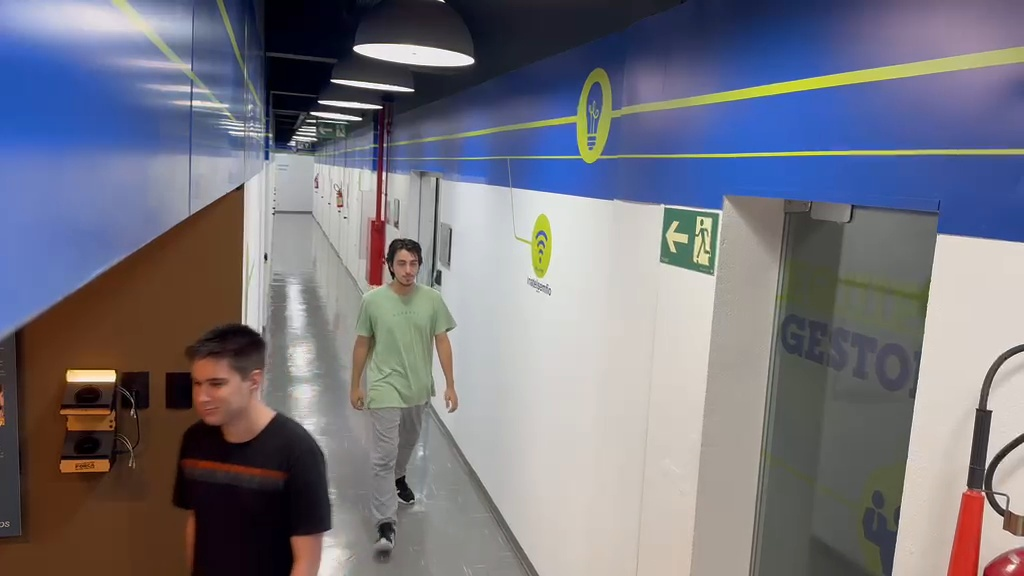person: (172, 322, 332, 573), (349, 237, 460, 528)
